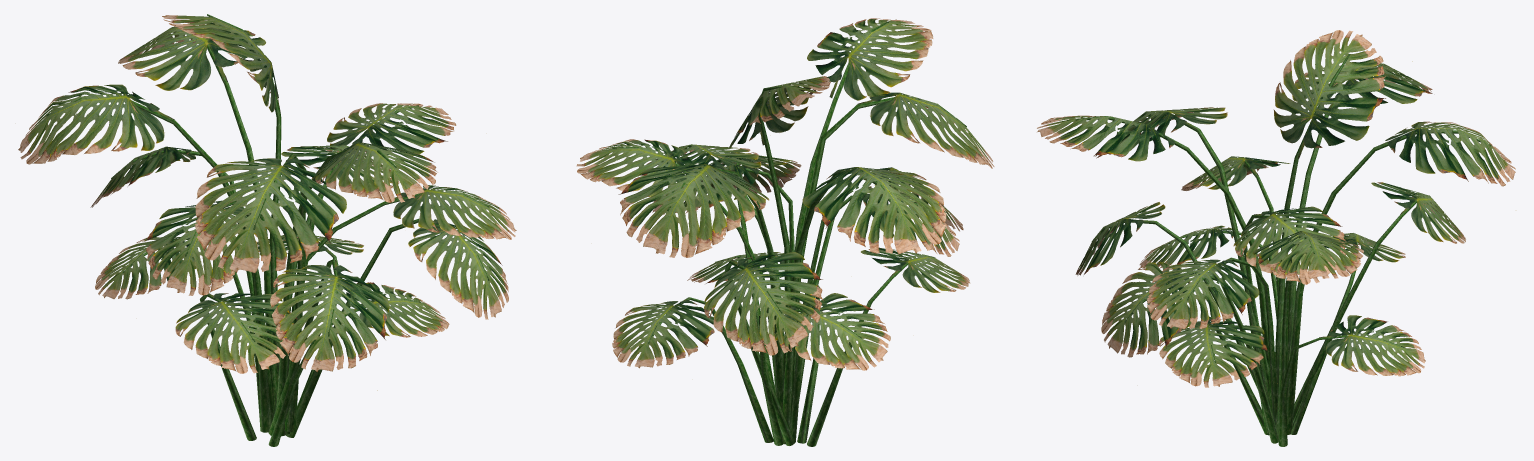
File: fan plant version 3.dae
3 views of the same model, side by side, from view 1: azimuth 30°, elevation 25°; view 2: azimuth 150°, elevation 25°; view 3: azimuth 270°, elevation 25° (orthographic). The views are drawn at different scales.
Parts seen in each view (by area): view 1: fan_plant_3_Group2_Group2_Form1, fan_plant_3_Form1, fan_plant_3_Group2_Group2_Shape0, fan_plant_3_Shape0, fan_plant_3_Group2_Form1, fan_plant_3_Group2_Shape0; view 2: fan_plant_3_Form1, fan_plant_3_Group2_Group2_Form1, fan_plant_3_Group2_Group2_Shape0, fan_plant_3_Shape0, fan_plant_3_Group2_Shape0, fan_plant_3_Group2_Form1; view 3: fan_plant_3_Form1, fan_plant_3_Group2_Group2_Form1, fan_plant_3_Group2_Group2_Shape0, fan_plant_3_Shape0, fan_plant_3_Group2_Form1.
Boxes of the visible parts, box(x1,y1,x2,y2) form: fan_plant_3_Group2_Group2_Form1: box(90, 145, 508, 390); fan_plant_3_Form1: box(18, 15, 516, 239); fan_plant_3_Group2_Group2_Shape0: box(111, 146, 489, 446); fan_plant_3_Shape0: box(47, 14, 488, 436); fan_plant_3_Group2_Form1: box(144, 200, 267, 295); fan_plant_3_Group2_Shape0: box(185, 201, 269, 432); fan_plant_3_Form1: box(576, 18, 946, 257); fan_plant_3_Group2_Group2_Form1: box(612, 92, 994, 370); fan_plant_3_Group2_Group2_Shape0: box(648, 97, 966, 446); fan_plant_3_Shape0: box(612, 21, 898, 444); fan_plant_3_Group2_Shape0: box(790, 195, 917, 443); fan_plant_3_Group2_Form1: box(851, 185, 959, 256); fan_plant_3_Form1: box(1037, 30, 1515, 329); fan_plant_3_Group2_Group2_Form1: box(1075, 107, 1465, 387); fan_plant_3_Group2_Group2_Shape0: box(1091, 112, 1435, 446); fan_plant_3_Shape0: box(1075, 54, 1490, 436); fan_plant_3_Group2_Form1: box(1181, 156, 1290, 190).
Bounding box in the file's own units: 82.3 × 74.94 × 86.81.
Materials: 2 (2 with a texture image).
